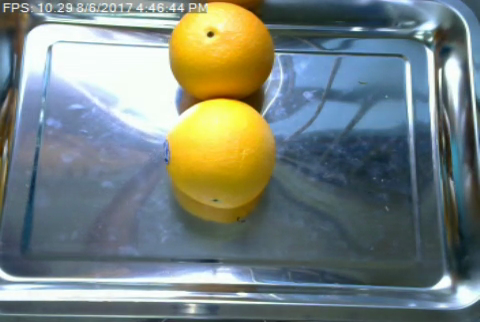Orange: (163, 96, 277, 208), (170, 1, 275, 103)
